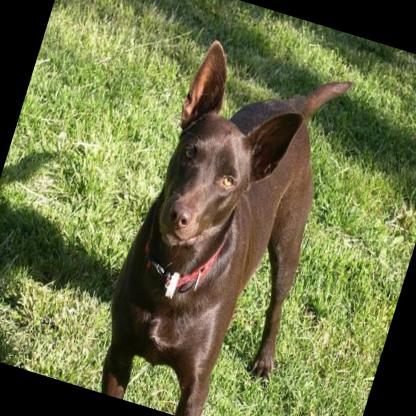kelpie: (79, 22, 366, 416)
